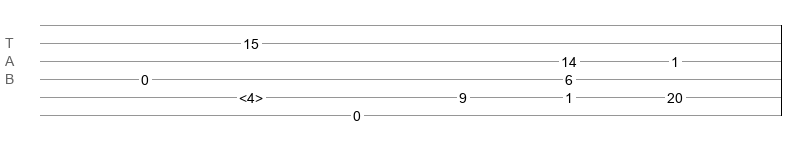0: (141, 72, 149, 82), (353, 108, 361, 118)
1: (565, 90, 573, 100), (671, 54, 679, 64)
14: (561, 54, 577, 64)
15: (243, 36, 259, 46)
20: (667, 90, 683, 100)
6: (565, 72, 573, 82)
9: (459, 90, 467, 100)
harmonic: (239, 90, 263, 100)
